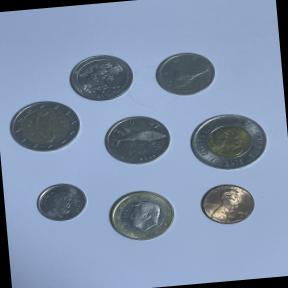1 Euro-B: (98, 180, 183, 246)
2 Euro-B: (6, 96, 85, 158)
Canada-10cent-B: (30, 176, 92, 226)
Canada-2Dollar-B: (181, 105, 273, 175)
Croatia-2Kune-B: (99, 108, 176, 170)
US-1cent-B: (192, 176, 262, 231)
US-25cent-B: (65, 48, 138, 104)
